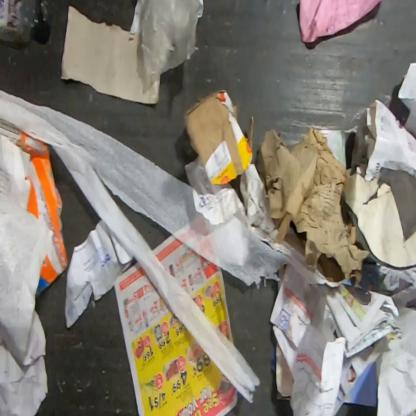cardboard: (255, 126, 371, 280), (0, 118, 69, 300), (183, 88, 255, 186)
rigid_plastic: (0, 0, 52, 44)
soft_plastic: (140, 0, 204, 86)
